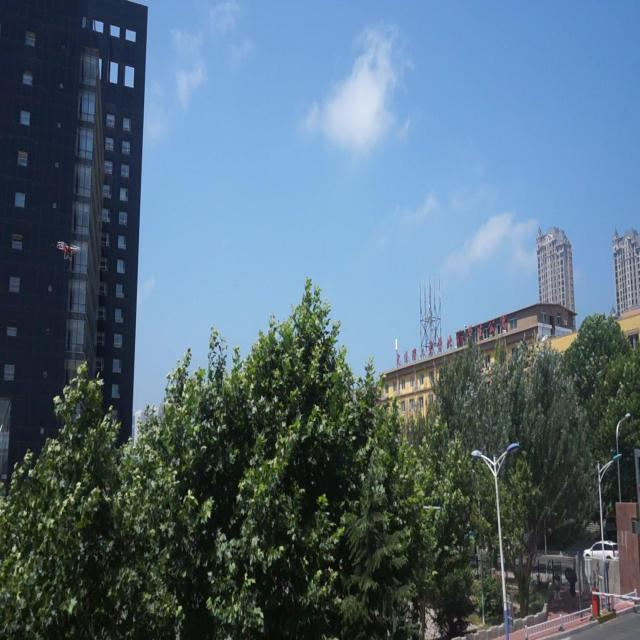UAV: (57, 240, 81, 260)
